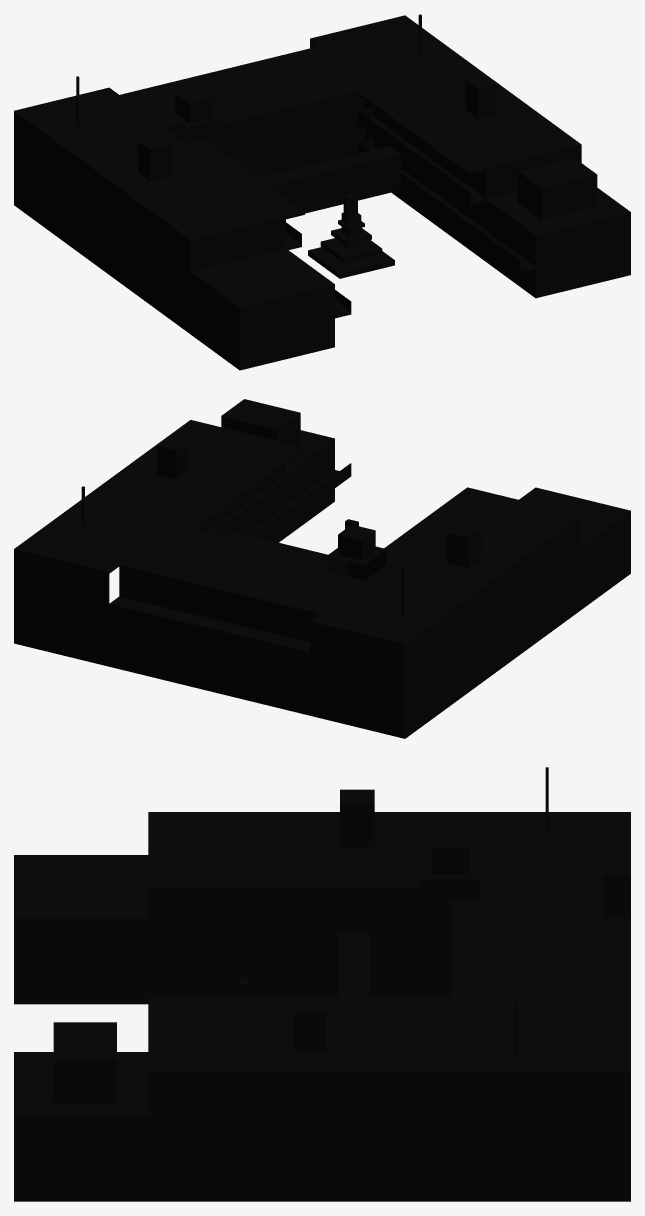
Rendered from far-hsAjh07X.glb.
3 renders of one model, top to bottom at view 1: azimuth 30°, elevation 25°; view 2: azimuth 150°, elevation 25°; view 3: azimuth 270°, elevation 25°, orthographic. The views are drawn at different scales.
Parts seen in each view (by area): view 1: farBaked; view 2: farBaked; view 3: farBaked.
Part boxes in pixels (<box>): farBaked: <box>14,14,630,370</box>; farBaked: <box>14,399,630,738</box>; farBaked: <box>14,767,630,1201</box>.
Bounding box in the file's own units: 39 × 13.6 × 39.
1 material, 1 textured.
